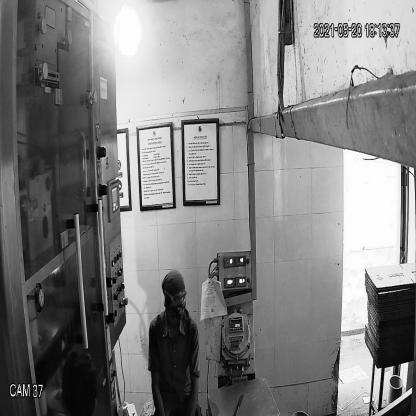goggles: (161, 286, 188, 309)
